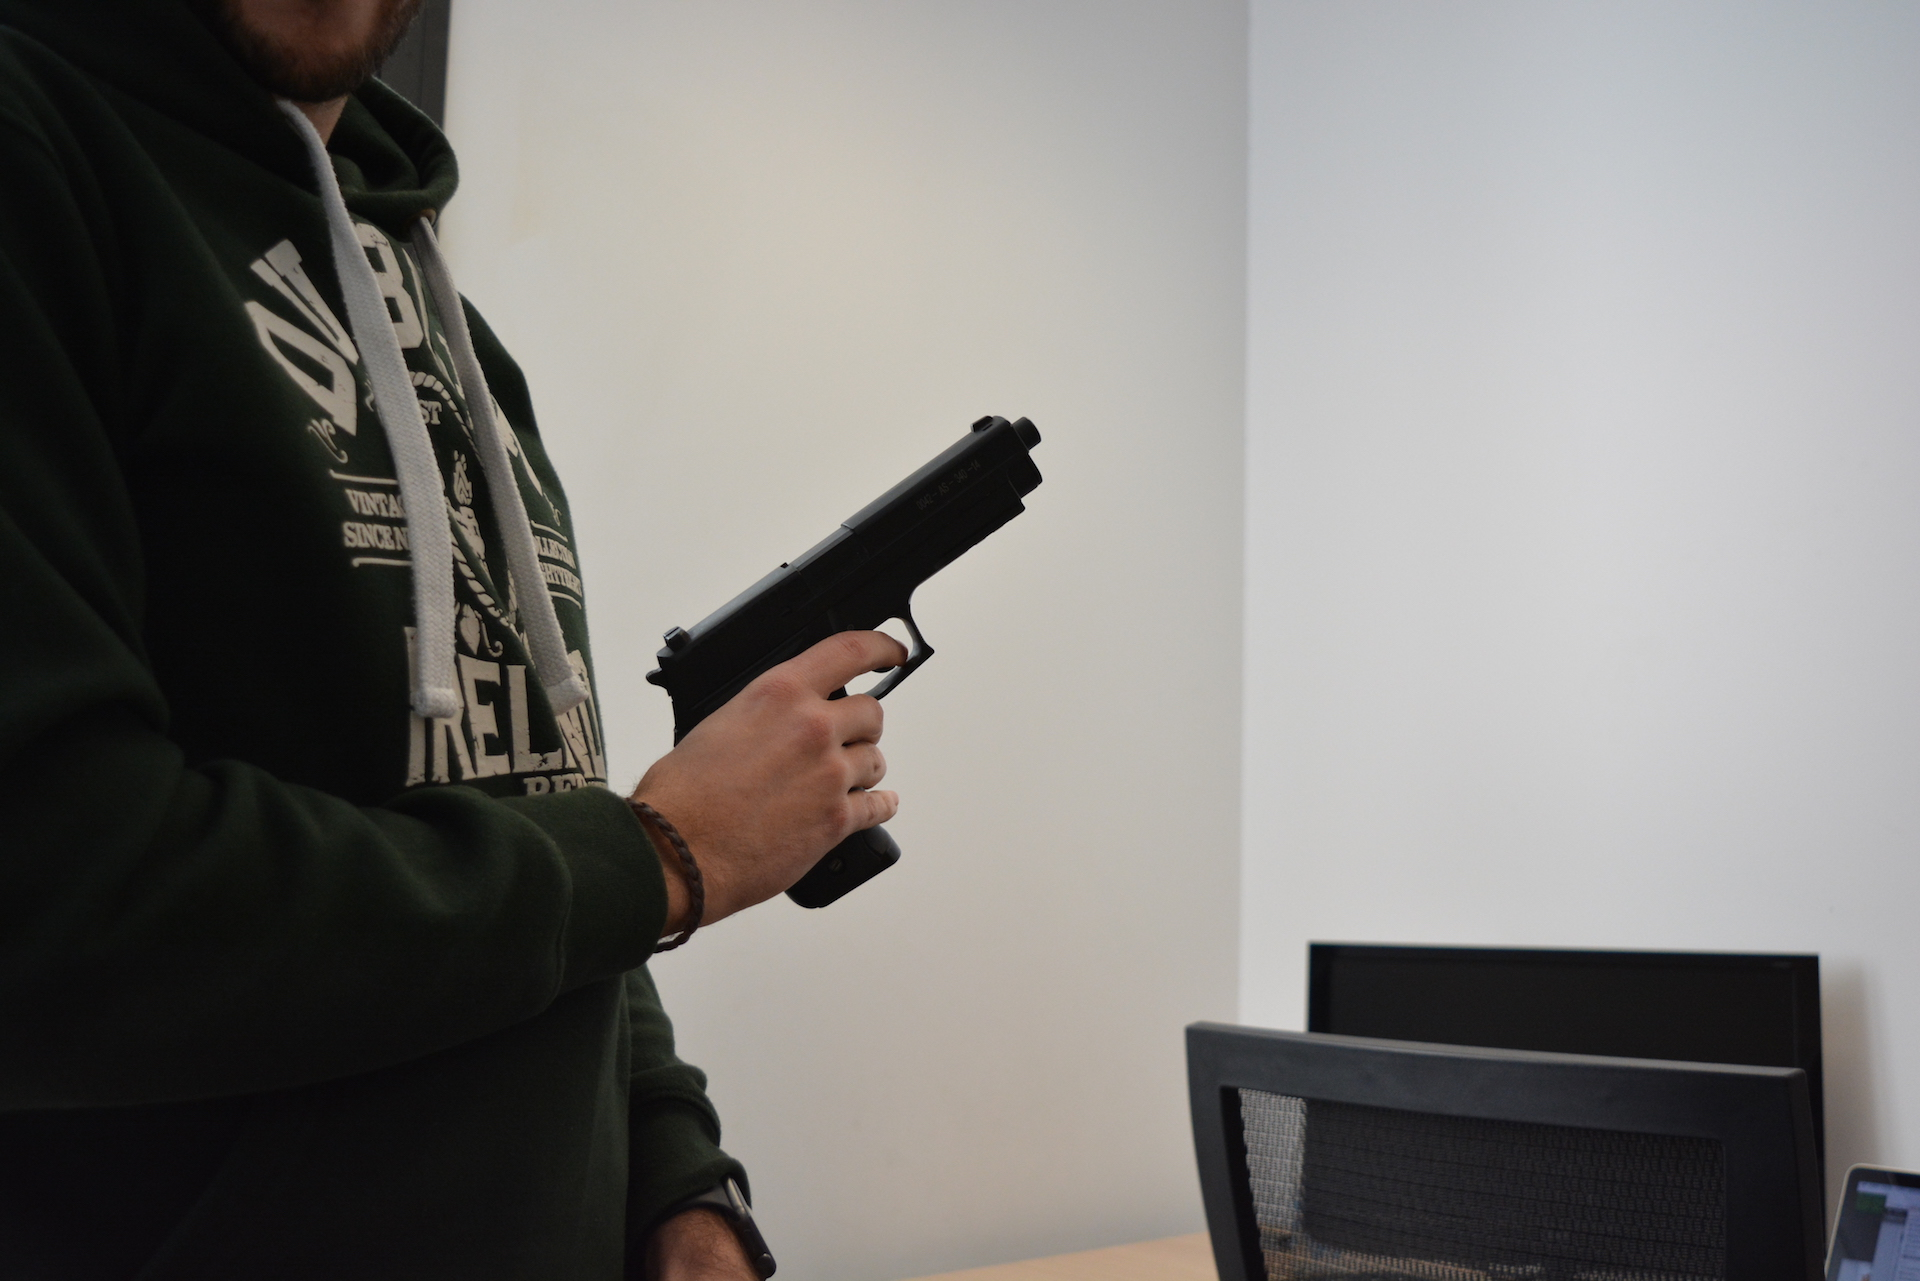pistol: (640, 407, 1048, 912)
